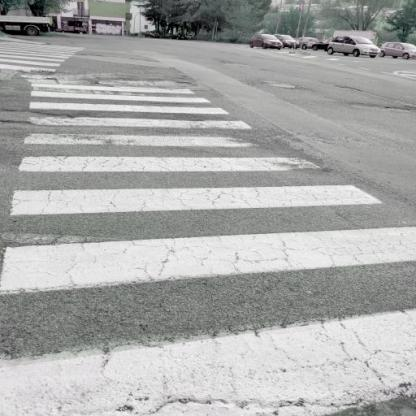crosswalk: (7, 153, 388, 222), (26, 86, 240, 118)
